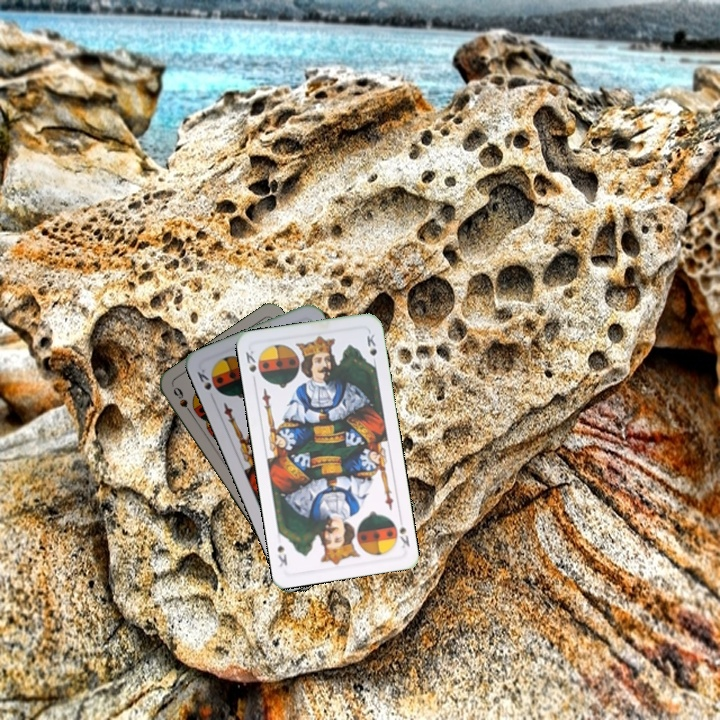S9: (169, 383, 197, 420)
SK: (389, 513, 412, 551), (193, 365, 214, 393), (242, 346, 259, 375)
